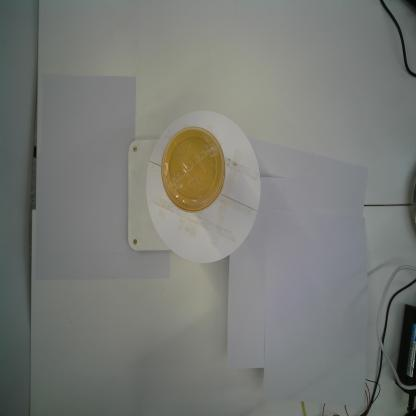Instant Drink: (161, 126, 226, 213)
